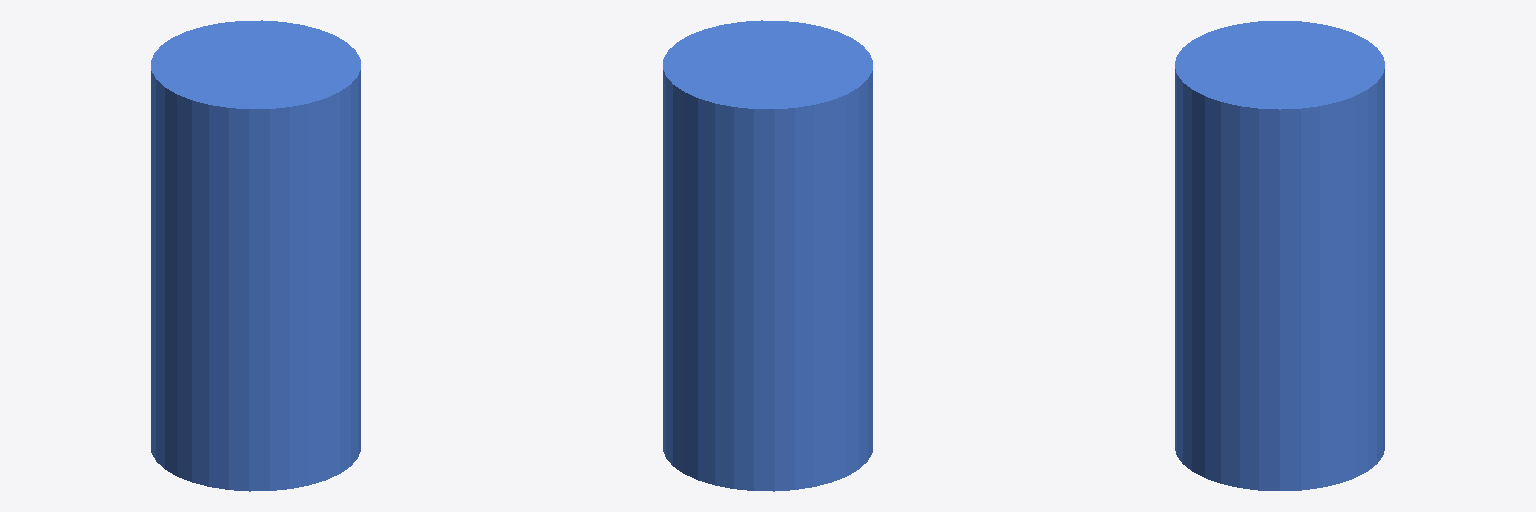
URDF robot description (fr3_link7_robot):
<?xml version="0.0" ?>
<robot name="fr3_link7_robot">
  <link name="base_link">
    <inertial>
      <origin rpy="0 0 0" xyz="0 0 0"/>
       <mass value=".1"/>
       <inertia ixx="1" ixy="0" ixz="0" iyy="1" iyz="0" izz="1"/>
    </inertial>
    
    <visual>
      <origin rpy="0 0 0" xyz="0 0 0.00"/>
      <geometry>
        <cylinder length="0.28" radius="0.07"/>
      </geometry>
      <material name="cornflowerblue">
        <color rgba="0.3921 0.5843 0.9294 0.8"/>
      </material>
    </visual>
  </link>
</robot>

--- What the picture shows (computed from the rendered views, not written in the file) ---
The picture shows the robot from 3 angles, left to right: view 1: azimuth 30°, elevation 25°; view 2: azimuth 150°, elevation 25°; view 3: azimuth 270°, elevation 25°; orthographic projection.
Model fr3_link7_robot with 1 links and 0 joints (none), rooted at base_link, posed every joint at zero.
Visible links, largest first — view 1: base_link; view 2: base_link; view 3: base_link.
Boxes of the visible links, <box> form: base_link: <box>151,20,360,491</box>; base_link: <box>663,20,872,491</box>; base_link: <box>1175,21,1384,490</box>.
Size in the robot's own frame: 0.14 by 0.14 by 0.28 metres.
Geometry: primitives only (box / cylinder / sphere), no mesh files.